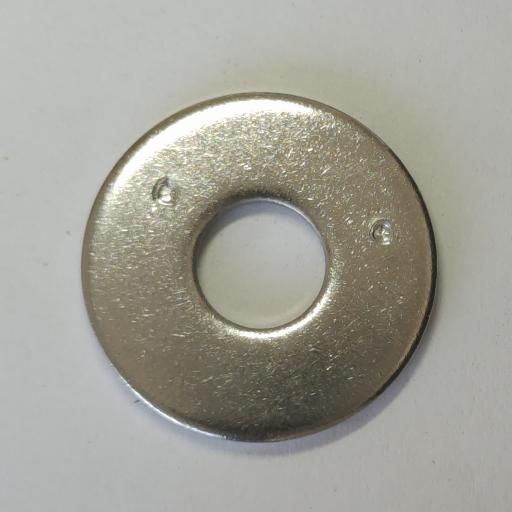circular_cavity: (152, 176, 181, 206), (371, 218, 394, 244)
